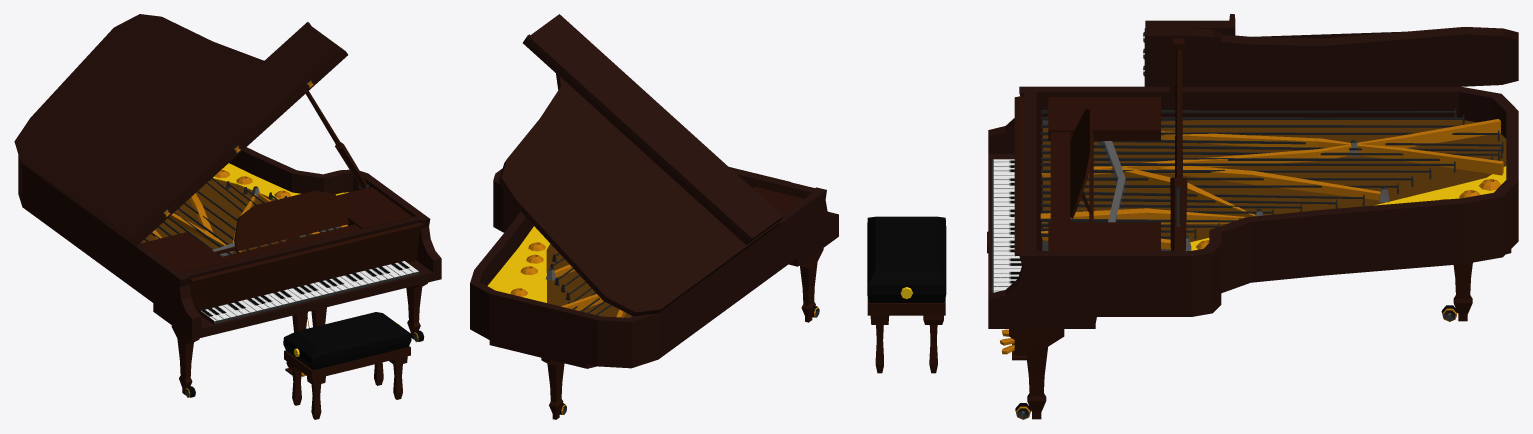
Rendered from Piano.fbx.
3 renders of one model, left to right at view 1: azimuth 30°, elevation 25°; view 2: azimuth 150°, elevation 25°; view 3: azimuth 270°, elevation 25°, orthographic. The views are drawn at different scales.
Parts seen in each view (by area): view 1: Main Body, Main Body.001, Bench; view 2: Main Body; view 3: Main Body, Bench, Main Body.001.
Part boxes in pixels (bbox=[...]): Main Body: bbox=[14, 14, 441, 397]; Main Body.001: bbox=[189, 222, 423, 311]; Bench: bbox=[283, 312, 411, 419]; Main Body: bbox=[470, 14, 838, 419]; Main Body: bbox=[987, 14, 1518, 419]; Bench: bbox=[867, 216, 946, 373]; Main Body.001: bbox=[1014, 96, 1024, 256].
Bounding box in the file's own units: 168 × 172 × 266.
